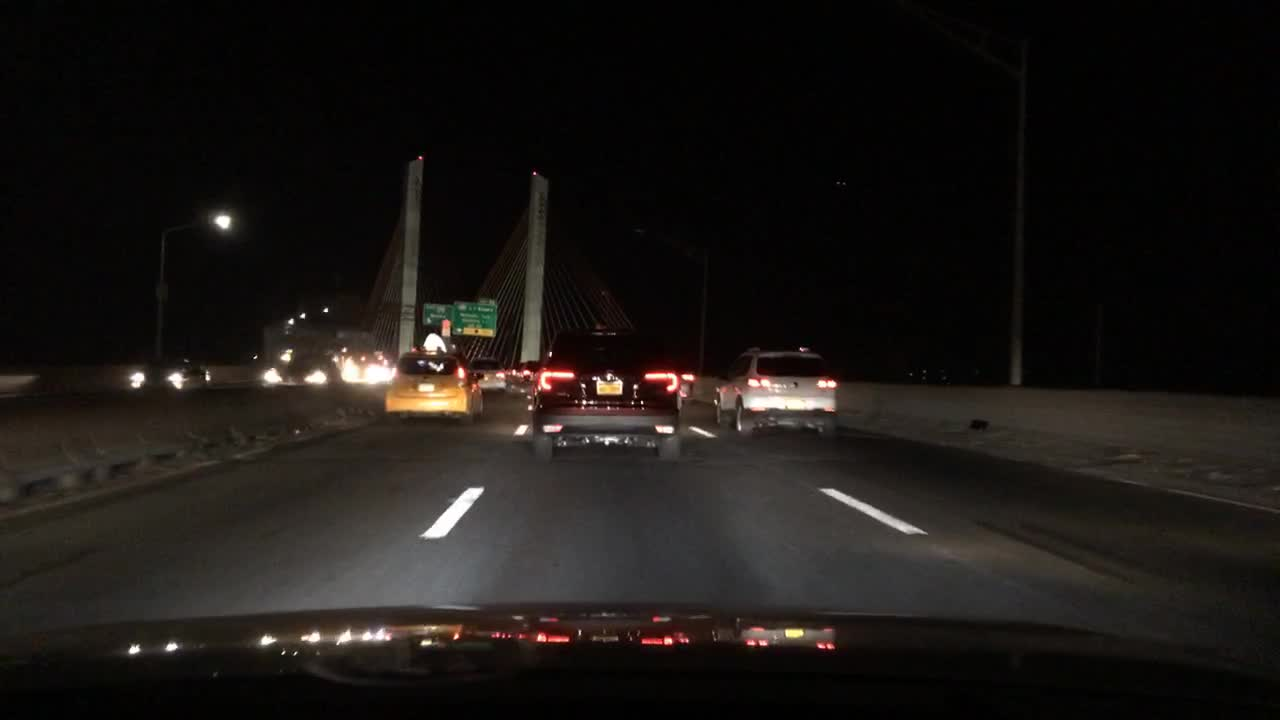car: (527, 323, 685, 466), (713, 344, 835, 440), (381, 330, 487, 425), (128, 355, 214, 389), (267, 353, 341, 390), (339, 356, 388, 386), (471, 354, 506, 395), (677, 360, 696, 404), (520, 360, 541, 394), (506, 360, 524, 386)
traffic sign: (449, 295, 499, 339), (421, 301, 450, 326)
